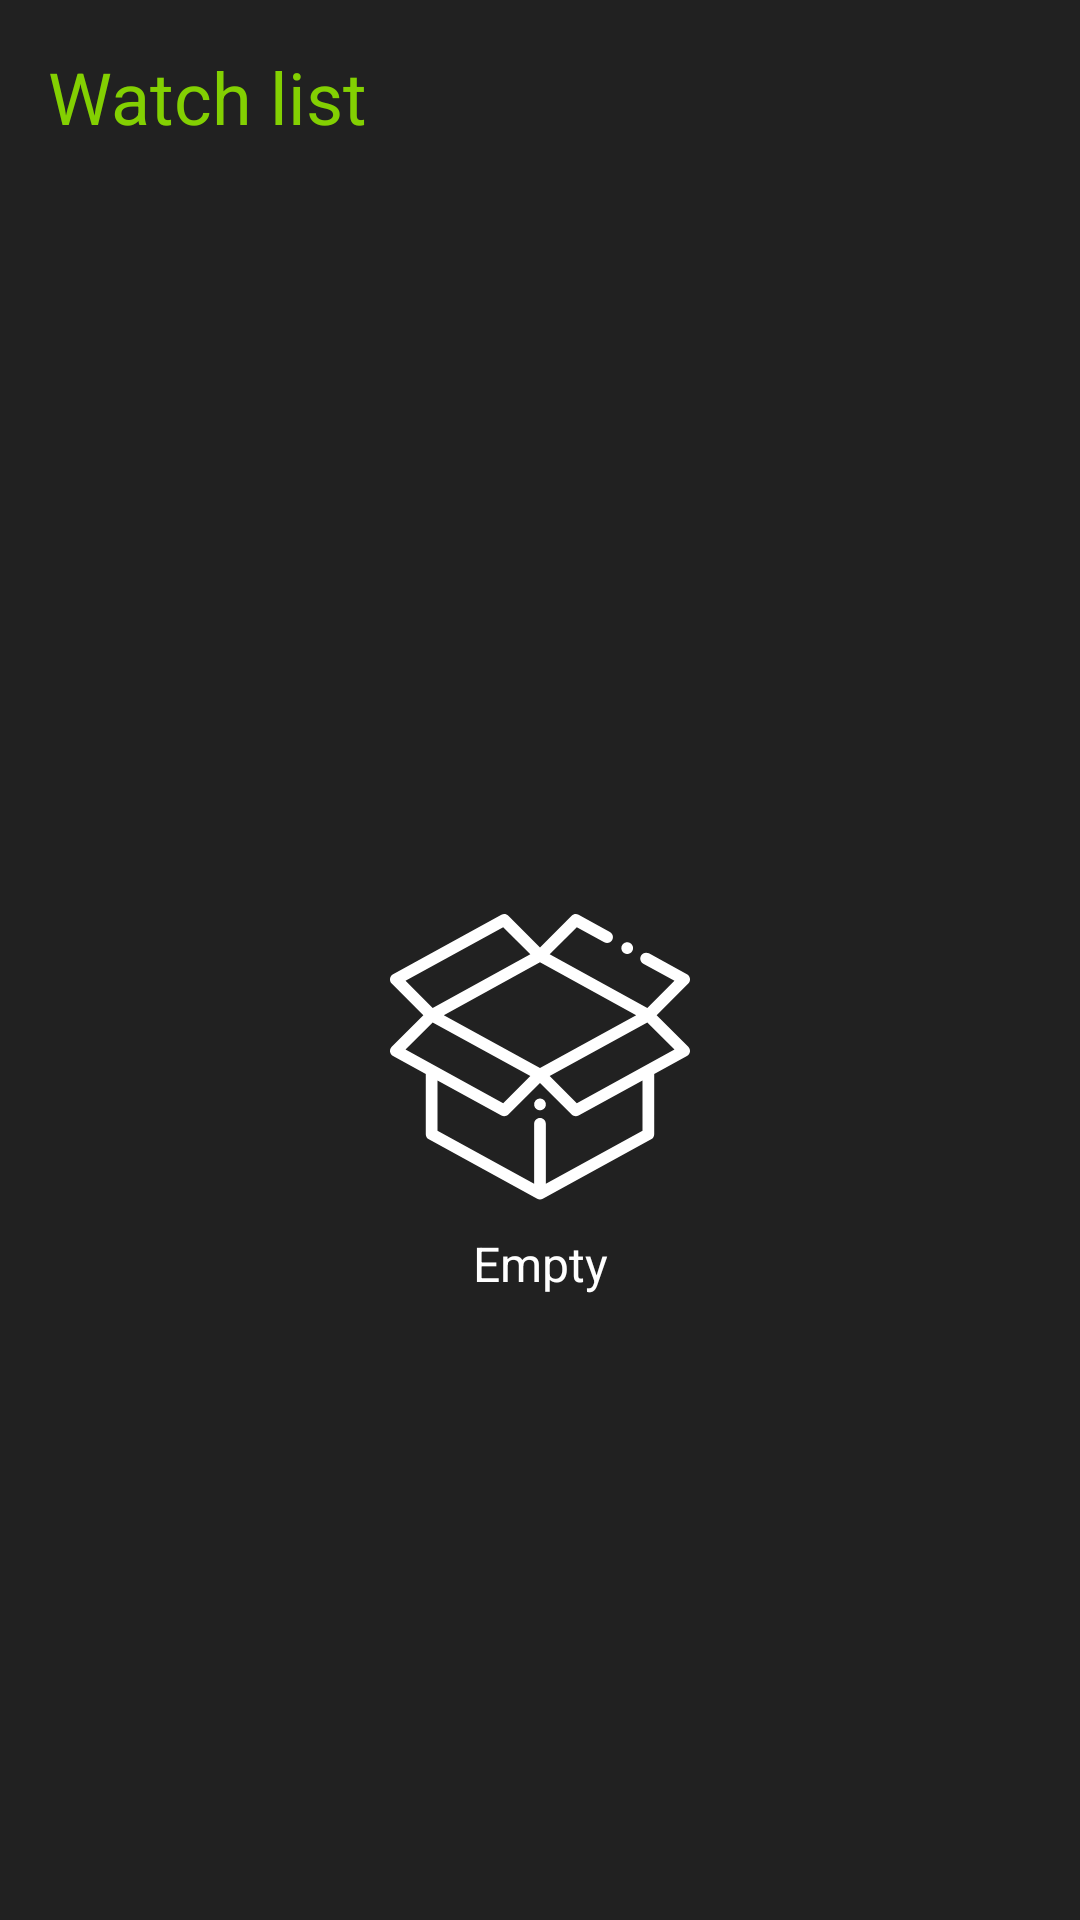

Screen size 1080w x 1920h. Icon name, then its box in pixels as box=[x1, y1, x2, y2]:
box: box=[390, 914, 690, 1200]
